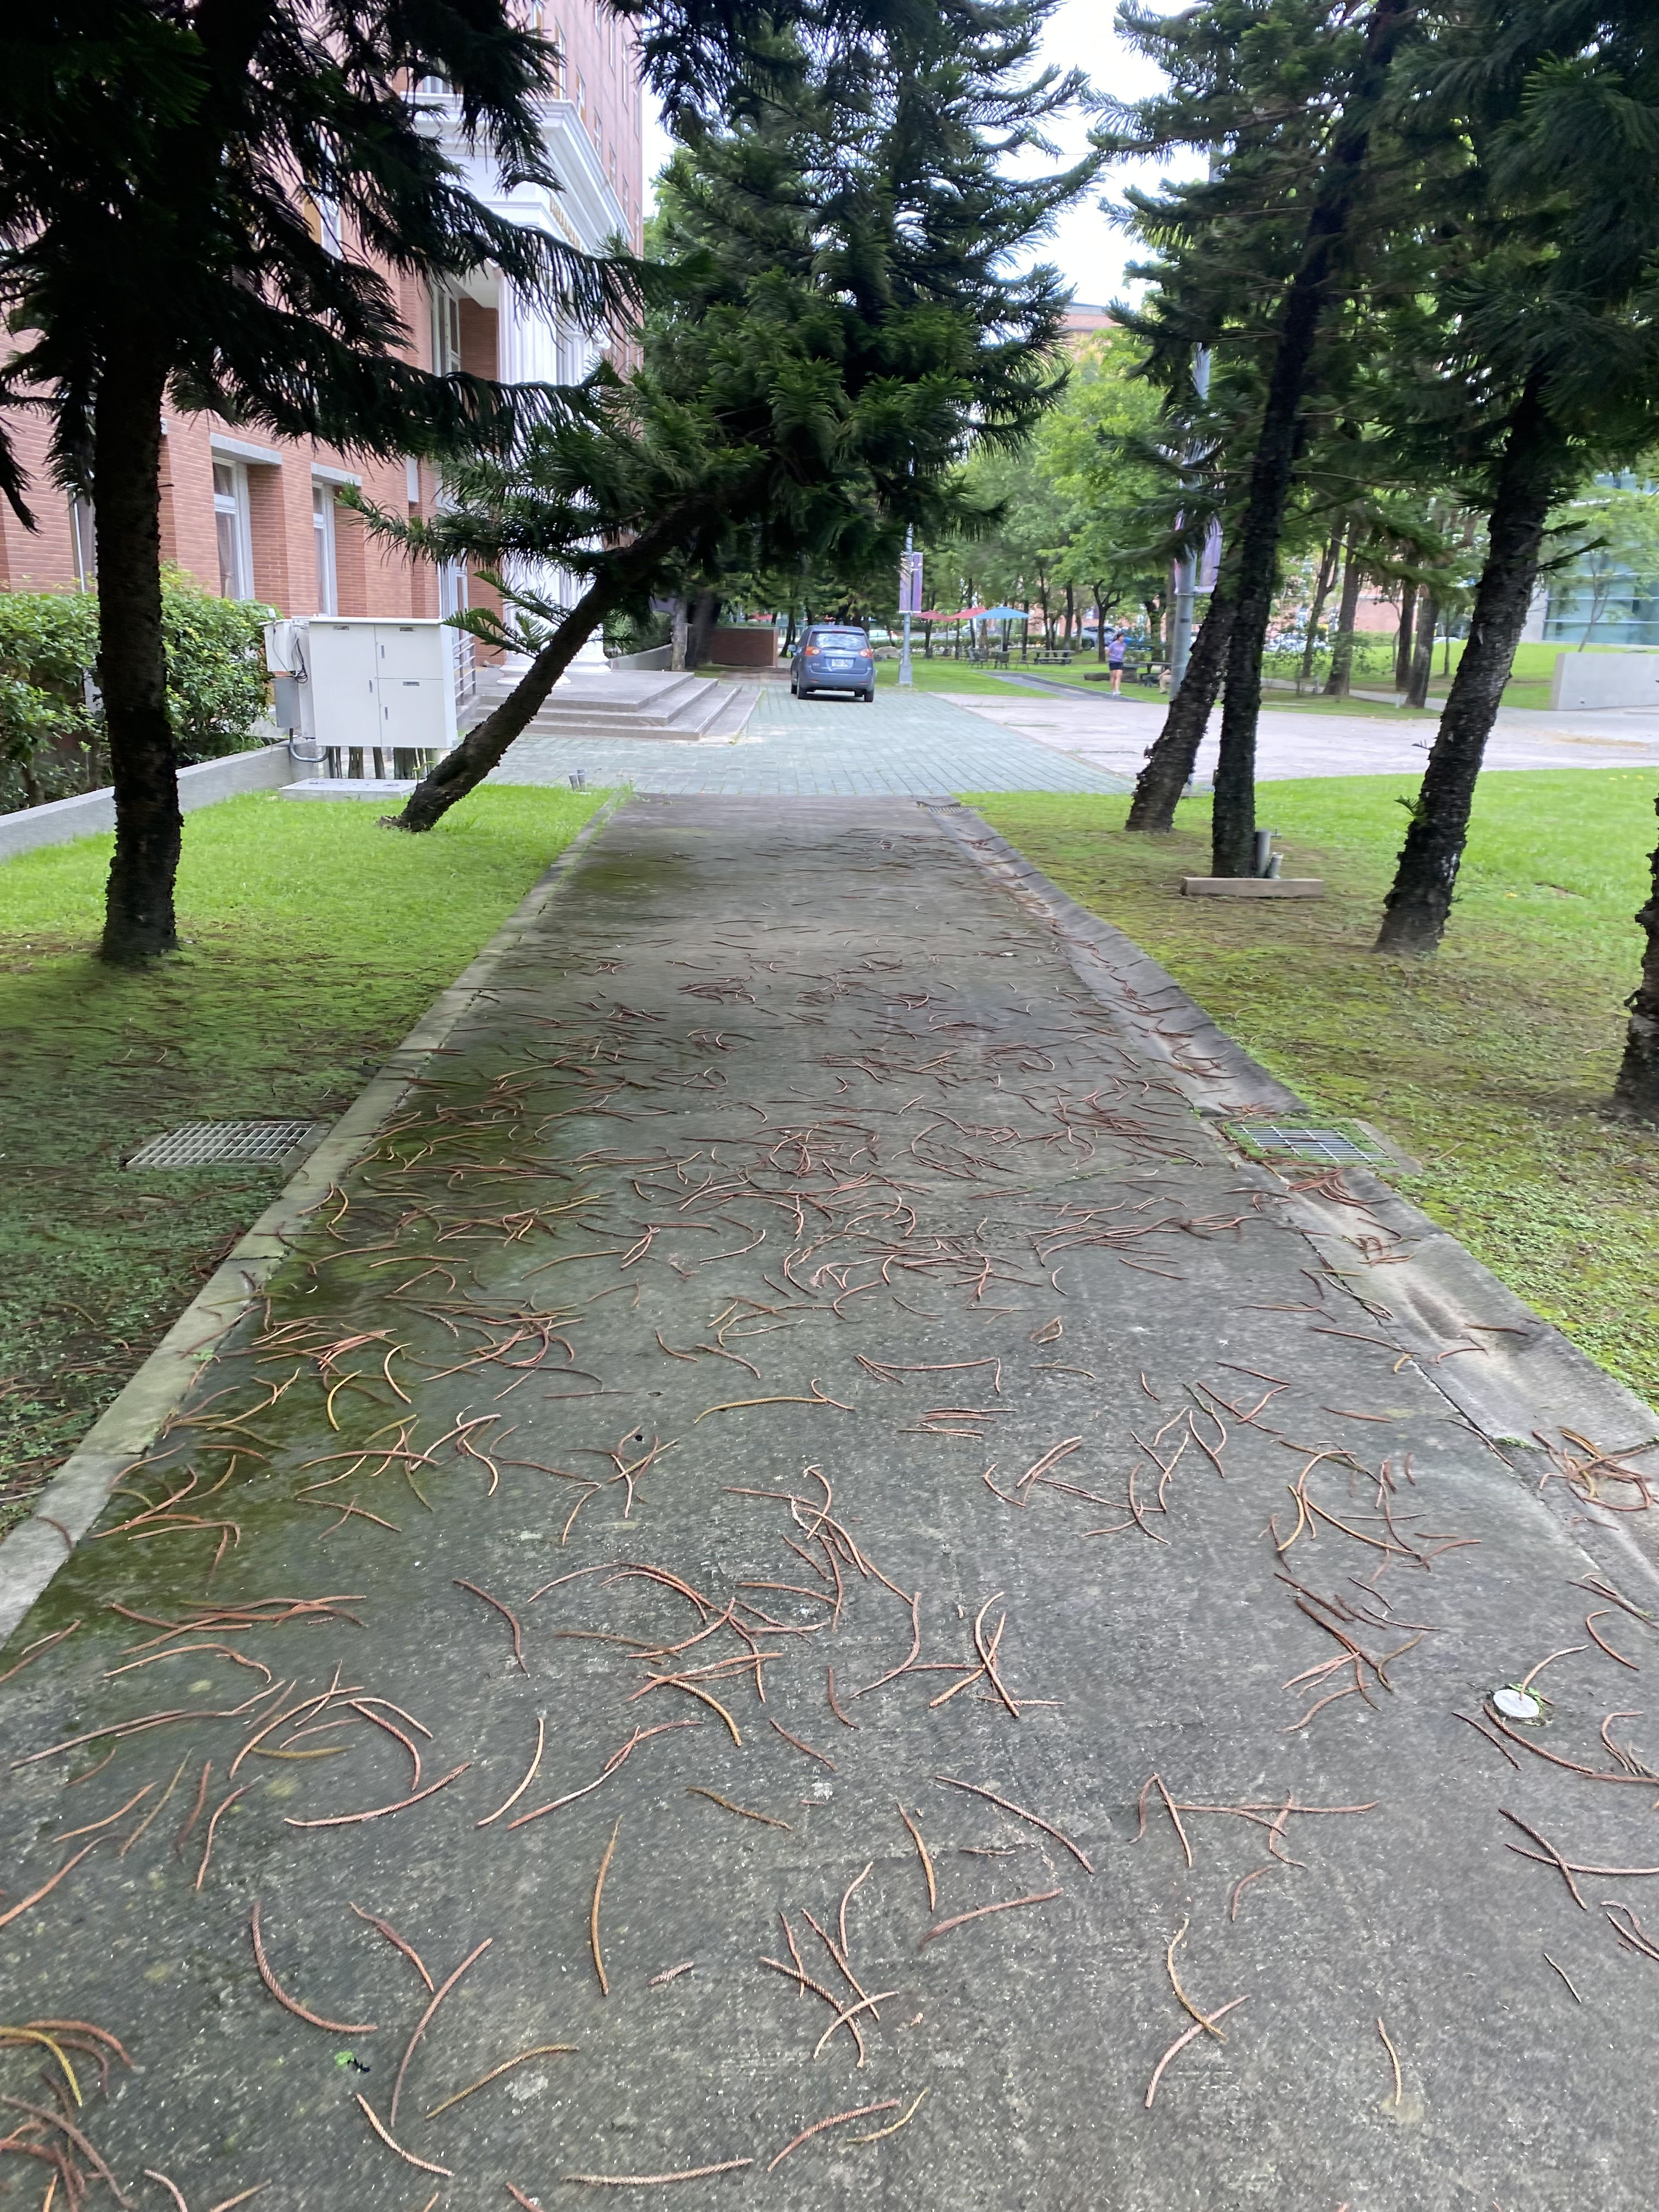0: (624, 637, 993, 864)
sidewalk: (10, 738, 1659, 2212)
